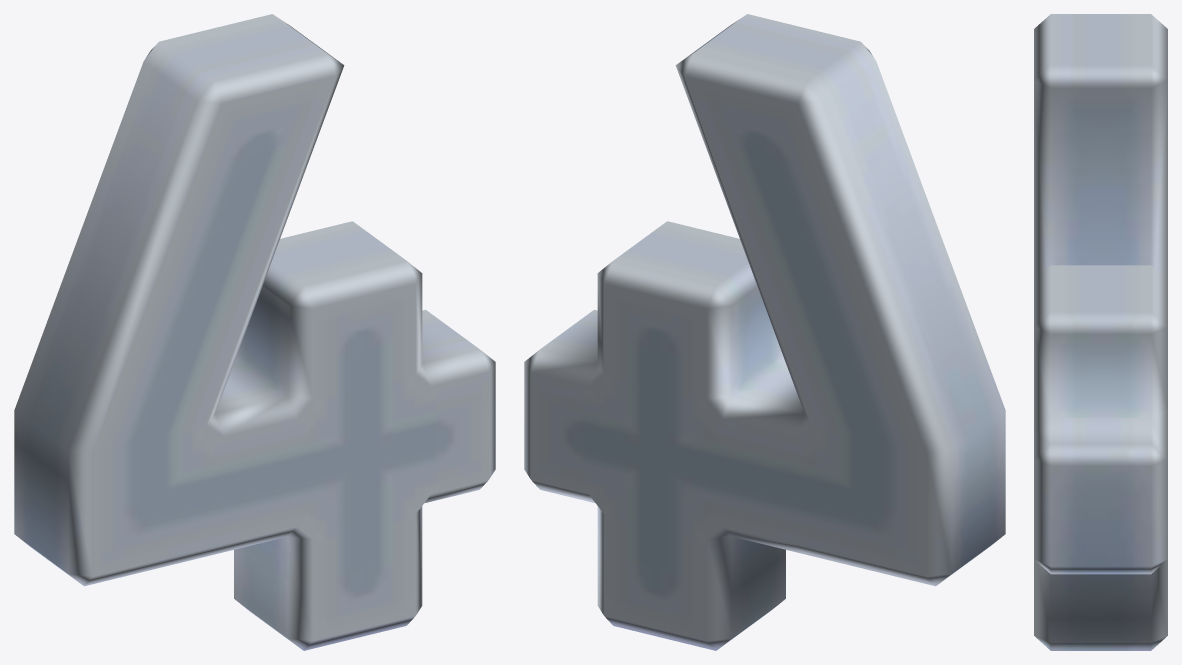
Rendered from rmk_nmb_4.dae.
The picture shows the model from 3 angles, left to right: view 1: azimuth 30°, elevation 25°; view 2: azimuth 150°, elevation 25°; view 3: azimuth 270°, elevation 25°; orthographic projection. The views are drawn at different scales.
Parts seen in each view (by area): view 1: rmk_nmb_4; view 2: rmk_nmb_4; view 3: rmk_nmb_4.
Boxes of the visible parts, bbox=[...] form: rmk_nmb_4: bbox=[14, 14, 495, 650]; rmk_nmb_4: bbox=[524, 14, 1005, 650]; rmk_nmb_4: bbox=[1034, 14, 1167, 650].
Bounding box in the file's own units: 22.26 × 29.48 × 6.52.
1 material, 1 textured.
